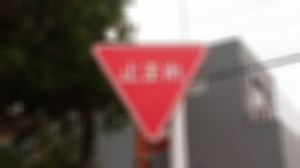Regulatory_sign_triangle: (91, 39, 209, 134)
